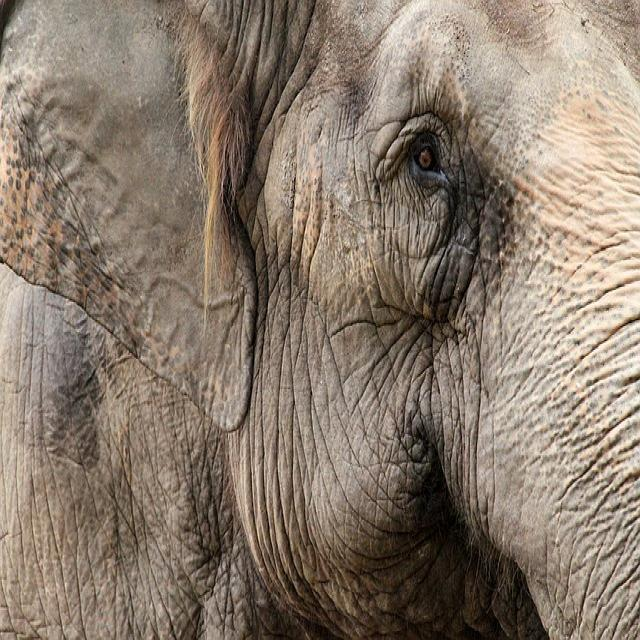elephant: (0, 2, 640, 638)
